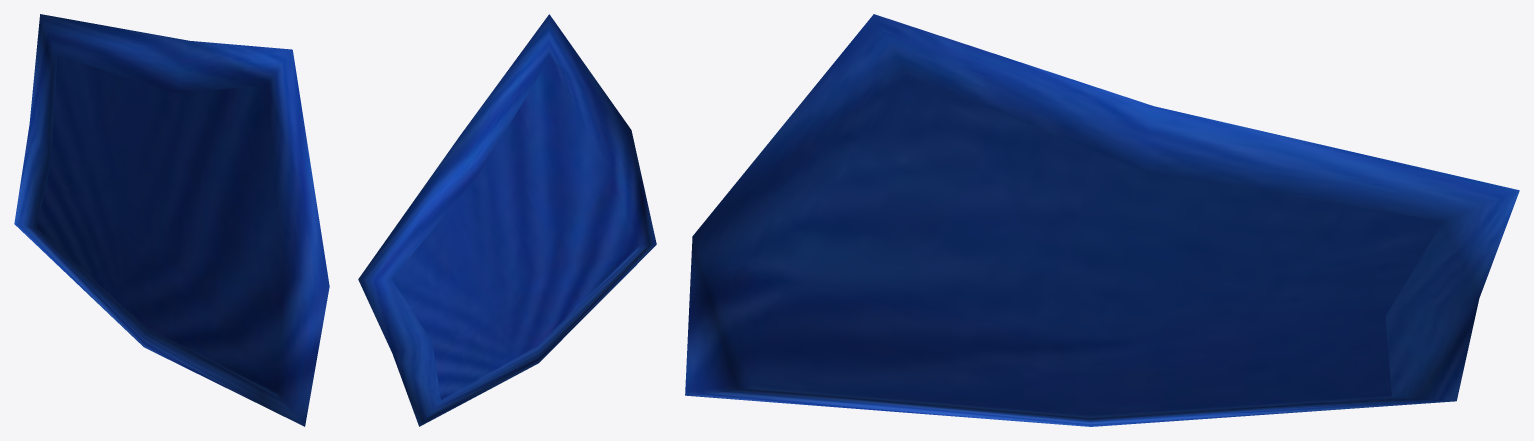
The model's file is tenda azul 1.1.fbx.
The picture shows the model from 3 angles, left to right: view 1: azimuth 30°, elevation 25°; view 2: azimuth 150°, elevation 25°; view 3: azimuth 270°, elevation 25°; orthographic projection. The views are drawn at different scales.
Visible parts, largest first — view 1: polyToSubd2; view 2: polyToSubd2; view 3: polyToSubd2.
Part boxes in pixels (x1,y1,x2,y2): polyToSubd2: (14, 14, 329, 426); polyToSubd2: (358, 14, 656, 426); polyToSubd2: (685, 14, 1519, 426).
Bounding box in the file's own units: 11.97 × 55.99 × 92.55.
